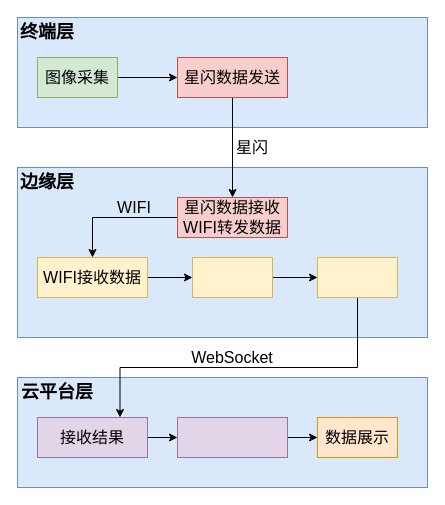
The diagram is 445 pixels wide and 505 high, and some of its shapes have lost their labels. The shapes that lost their labels are listed below. From the top down, each one's centre as x and y in pixels, then its label:
the point at 232,277: 图像识别
the point at 357,277: 结果上送
the point at 232,437: 数据持久化
